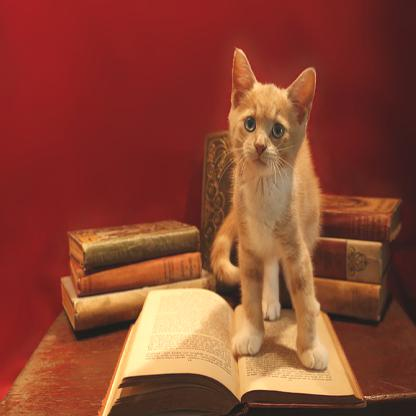cat: (211, 48, 328, 371)
